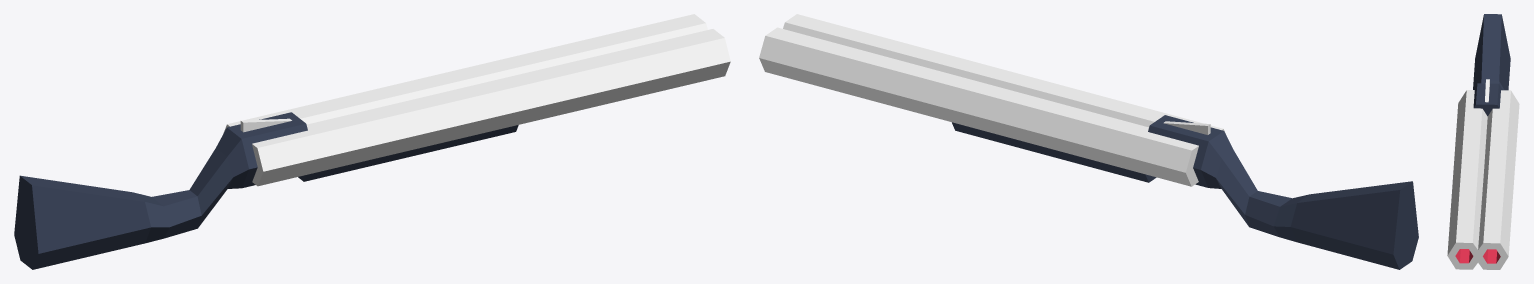
File: Gun.fbx
3 renders of one model, left to right at view 1: azimuth 30°, elevation 25°; view 2: azimuth 150°, elevation 25°; view 3: azimuth 270°, elevation 25°, orthographic. The views are drawn at different scales.
Parts seen in each view (by area): view 1: Shotgun; view 2: Shotgun; view 3: Shotgun.
Part boxes in pixels (x1=…): Shotgun: x1=14, y1=14, x2=730, y2=269; Shotgun: x1=759, y1=14, x2=1418, y2=269; Shotgun: x1=1447, y1=14, x2=1519, y2=269.
Bounding box in the file's own units: 2.05 × 0.2746 × 0.274.
